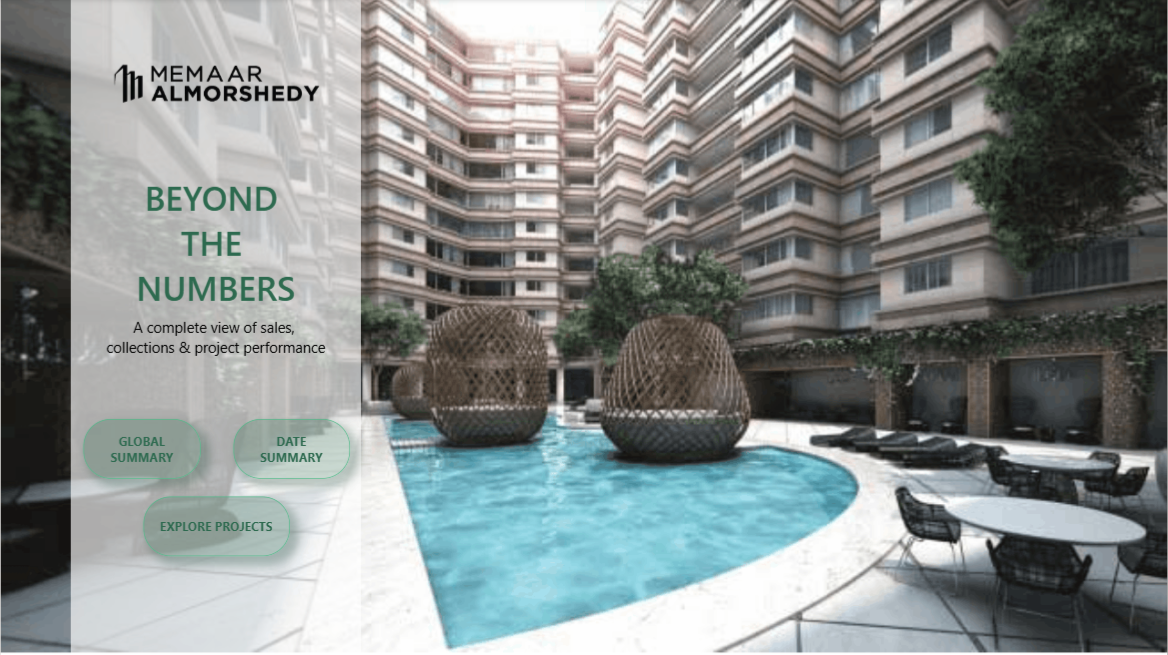

What the dashboard file says about the page in this screenshot:
{"tool":"powerbi","page":{"name":"Home","canvas":[1280,720],"ordinal":0},"visuals":[{"type":"shape","box":[76.8,0,318.4,720.4],"z":0},{"type":"image","box":[76.8,0,318.4,175.6],"z":1000},{"type":"actionButton","title":"EXPLORE PROJECTS","box":[90.6,461.1,129,65.9],"z":2000},{"type":"textbox","box":[76.8,188,318.4,185.2],"z":3000,"group":"g1"},{"type":"actionButton","title":"EXPLORE PROJECTS","box":[156.4,546.1,160.5,65.9],"z":3000},{"type":"group","id":"g1","title":"Group 1","box":[76.8,188,318.4,214.1],"z":4000},{"type":"textbox","box":[76.8,344.4,318.4,57.6],"z":4000,"group":"g1"},{"type":"actionButton","title":"EXPLORE PROJECTS","box":[255.2,461.1,127.6,65.9],"z":5000}]}

Visuals, with their boxes in screenshot pixels (x1, y1, x2, y2), scaled from the page's 1280x720 canvas onto the 1168x655 screenshot:
shape: (70,0,361,654)
image: (70,0,361,160)
"EXPLORE PROJECTS" actionButton: (83,419,200,479)
textbox: (70,171,361,340)
"EXPLORE PROJECTS" actionButton: (143,497,289,557)
"Group 1" group: (70,171,361,366)
textbox: (70,313,361,366)
"EXPLORE PROJECTS" actionButton: (233,419,349,479)
